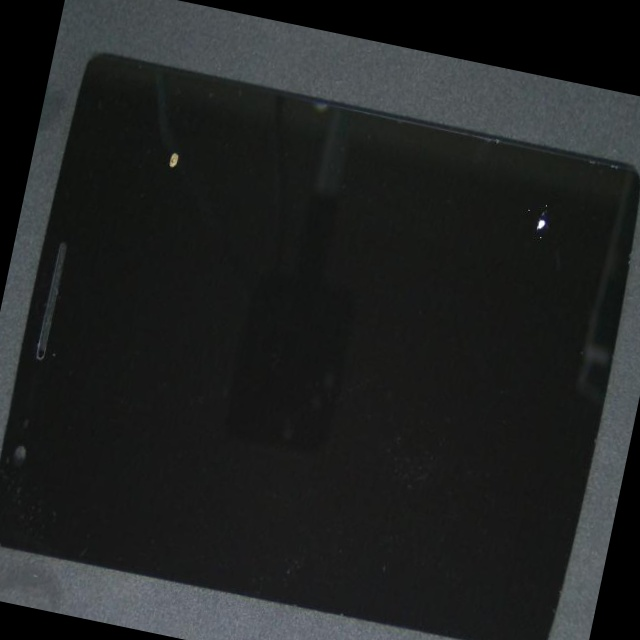stain: (305, 66, 640, 304), (46, 66, 248, 272)
